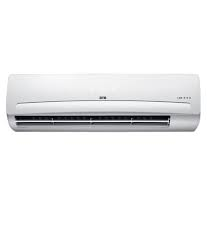ac: (6, 68, 205, 139)
